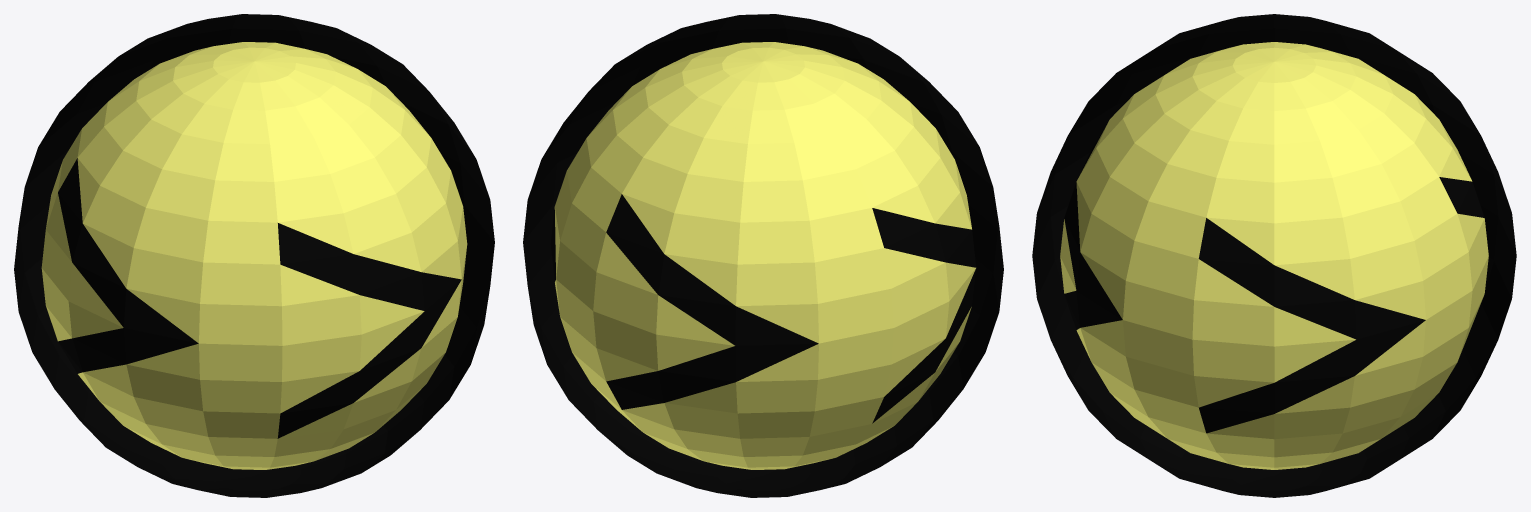
The model's file is Haste.fbx.
The picture shows the model from 3 angles, left to right: view 1: azimuth 30°, elevation 25°; view 2: azimuth 150°, elevation 25°; view 3: azimuth 270°, elevation 25°; orthographic projection.
Parts seen in each view (by area): view 1: HastePWR; view 2: HastePWR; view 3: HastePWR.
Part boxes in pixels (bbox=[...]): HastePWR: bbox=[14, 14, 494, 497]; HastePWR: bbox=[523, 14, 1003, 497]; HastePWR: bbox=[1032, 14, 1516, 497].
Size of the model in its own units: 226 by 226 by 226.
